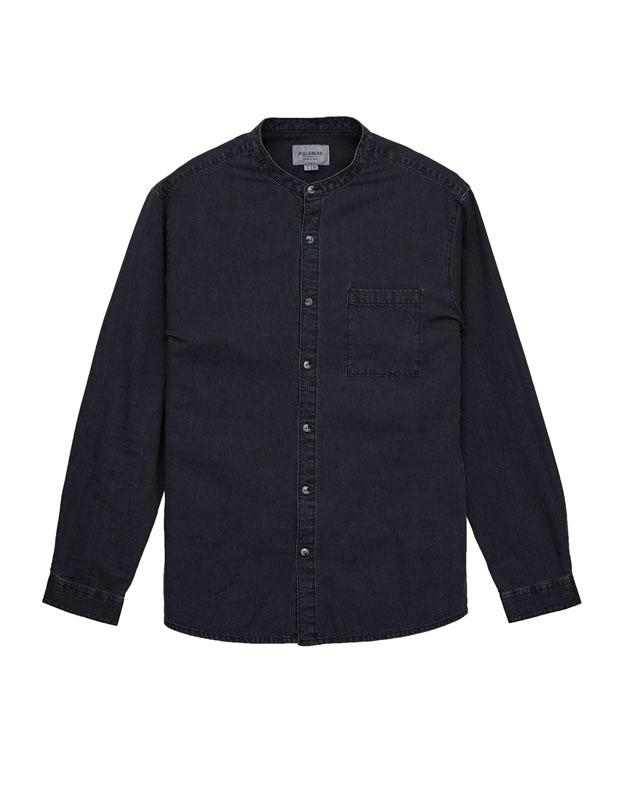teeshirt: (22, 111, 595, 651)
